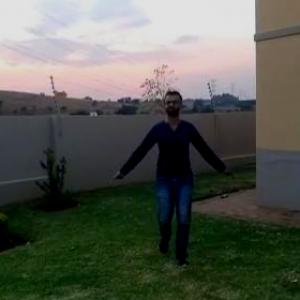land: (123, 100, 218, 234)
